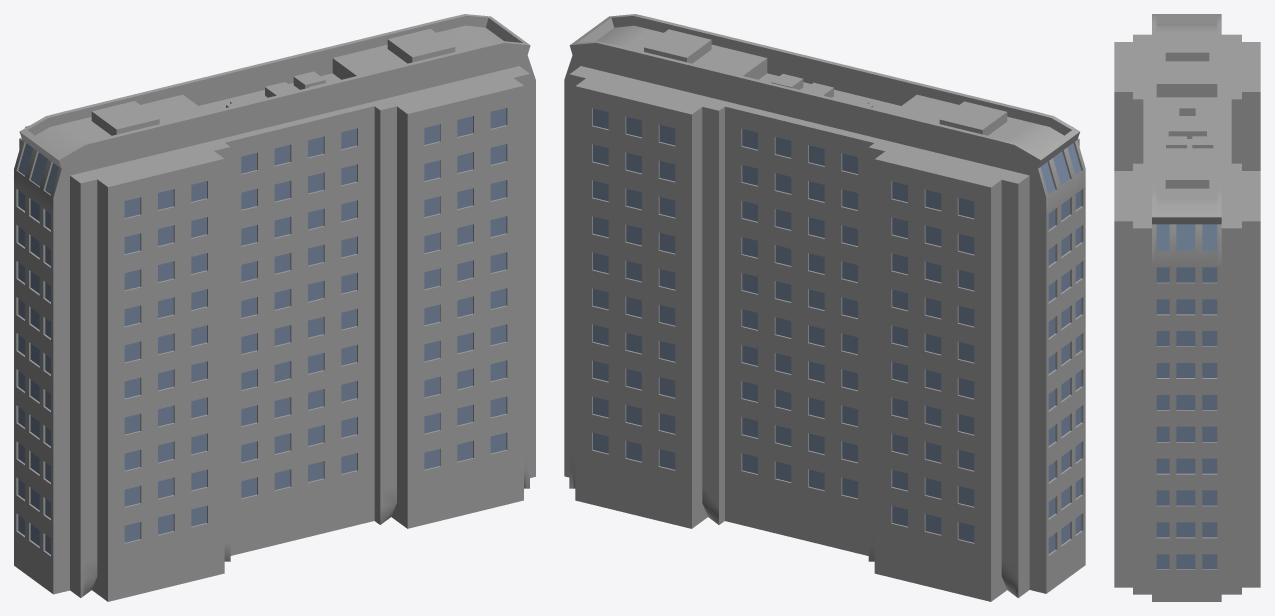
Rendered from DumbbellBuilding.fbx.
3 renders of one model, left to right at view 1: azimuth 30°, elevation 25°; view 2: azimuth 150°, elevation 25°; view 3: azimuth 270°, elevation 25°, orthographic. The views are drawn at different scales.
Visible parts, largest first — view 1: DumbellBuilding2; view 2: DumbellBuilding2; view 3: DumbellBuilding2.
Part boxes in pixels (box(x1,y1,x2,y2)): DumbellBuilding2: box(14, 14, 535, 601); DumbellBuilding2: box(564, 14, 1085, 601); DumbellBuilding2: box(1114, 14, 1260, 601).
Size of the model in its own units: 23.73 by 20.77 by 7.05.
